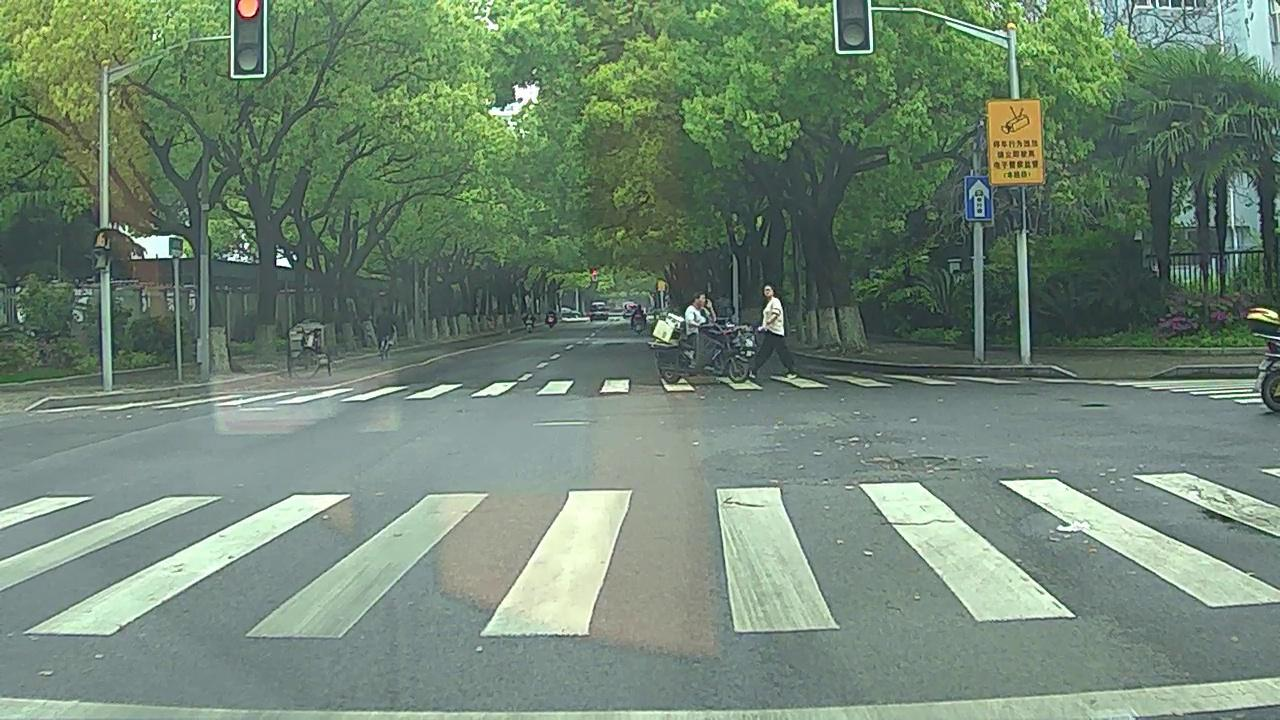traffic_light: (234, 1, 262, 75), (840, 1, 869, 48)
